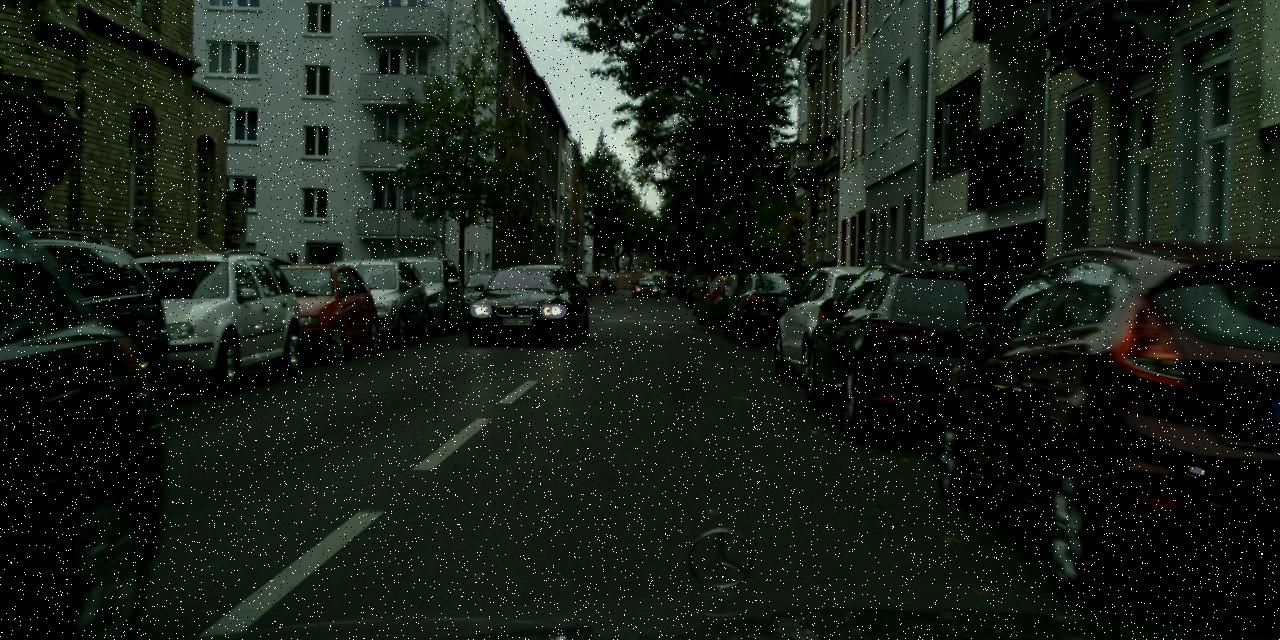ped: (919, 246, 965, 361)
